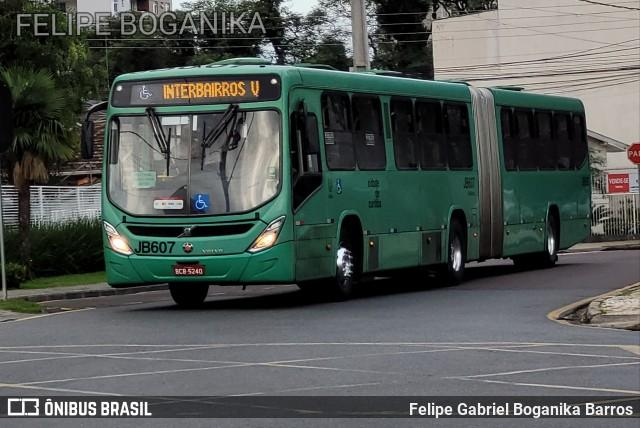INTERBAIRROS V: (159, 78, 263, 101)
